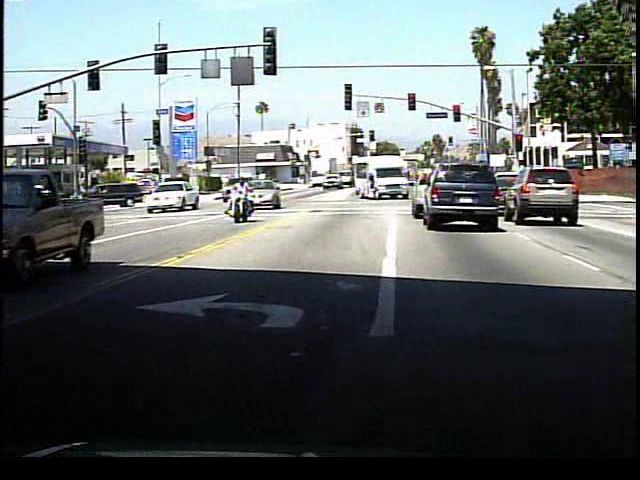person: (228, 177, 255, 225)
